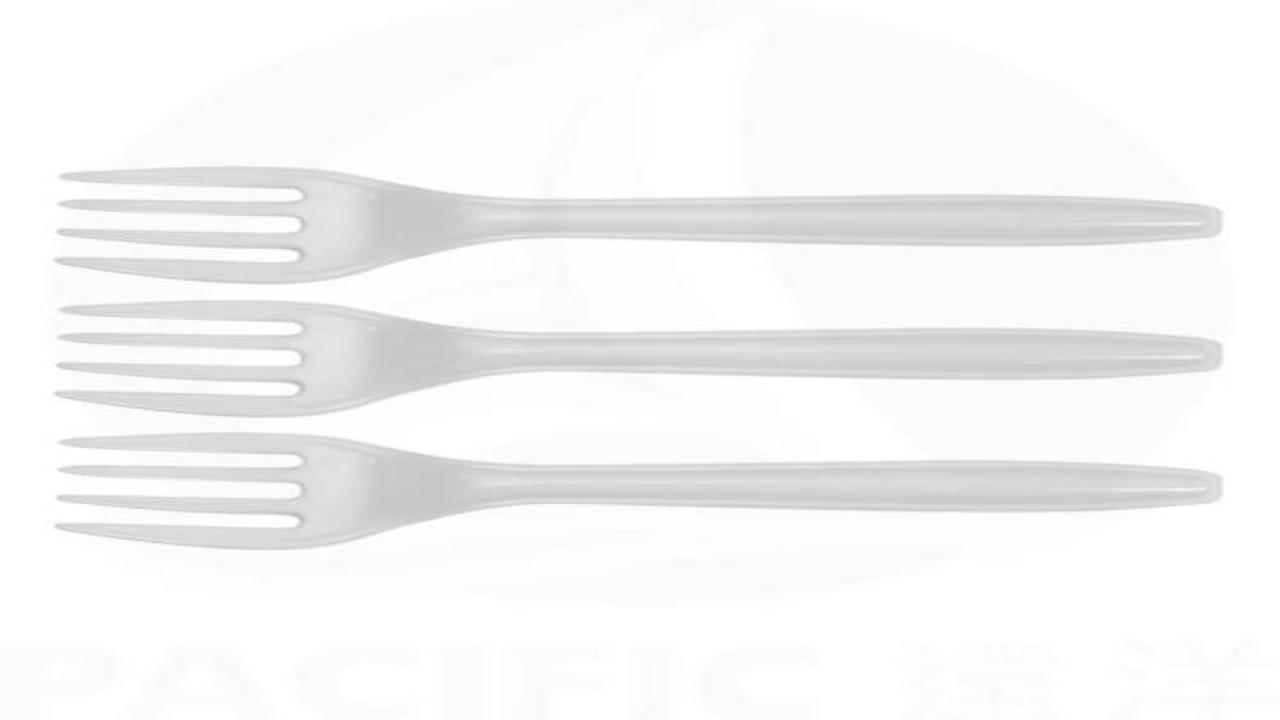fork: (51, 162, 1224, 284), (51, 429, 1224, 550), (51, 298, 1224, 418)
